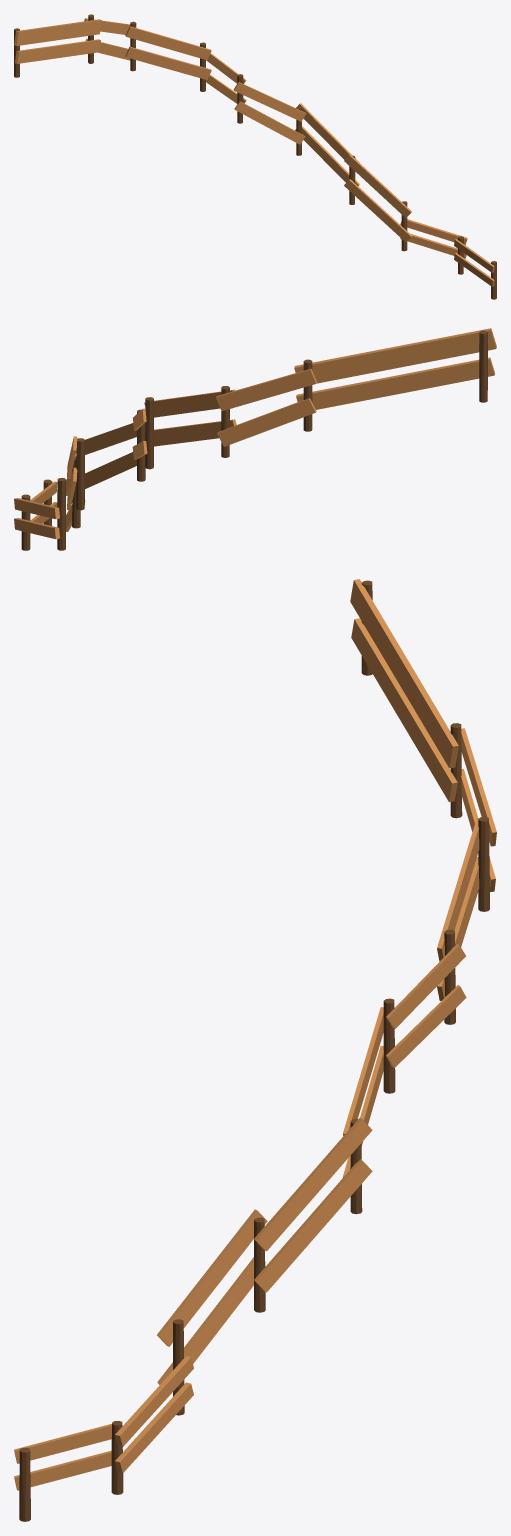
File: Fence.fbx
3 renders of one model, top to bottom at view 1: azimuth 30°, elevation 25°; view 2: azimuth 150°, elevation 25°; view 3: azimuth 270°, elevation 25°, orthographic. The views are drawn at different scales.
Visible parts, largest first — view 1: Cube.016, Cube.017, Cube.013, Cube.012, Cube.005, Cube.004, Cube.008, Cube.009, Cube.007, Cube.006, Cube.002, Cube.003 (+6 smaller); view 2: Cube.016, Cube.017, Cube.014, Cube.015, Cube.013, Cube.012, Cube.009, Cube.008, Cylinder.009, Cylinder.004, Cylinder.006, Cylinder.002 (+8 smaller); view 3: Cube.016, Cube.017, Cube.006, Cube.007, Cube.004, Cube.005, Cube.002, Cube.003, Cube.010, Cube.011, Cube.012, Cube (+5 smaller).
Boxes of the visible parts, left/top/right/bottom form: Cube.016: left=14, top=19, right=101, bottom=45; Cube.017: left=15, top=39, right=100, bottom=63; Cube.013: left=125, top=46, right=211, bottom=79; Cube.012: left=125, top=26, right=211, bottom=60; Cube.005: left=344, top=179, right=411, bottom=242; Cube.004: left=344, top=154, right=411, bottom=217; Cube.008: left=233, top=82, right=306, bottom=121; Cube.009: left=234, top=101, right=305, bottom=144; Cube.007: left=295, top=126, right=359, bottom=186; Cube.006: left=297, top=103, right=359, bottom=162; Cube.002: left=400, top=219, right=467, bottom=244; Cube.003: left=400, top=233, right=466, bottom=258; Cube.016: left=294, top=328, right=496, bottom=383; Cube.017: left=296, top=357, right=494, bottom=409; Cube.014: left=216, top=368, right=317, bottom=411; Cube.015: left=217, top=398, right=316, bottom=446; Cube.013: left=144, top=419, right=236, bottom=446; Cube.012: left=144, top=389, right=235, bottom=417; Cube.009: left=85, top=452, right=136, bottom=488; Cube.008: left=85, top=423, right=154, bottom=454; Cylinder.009: left=479, top=330, right=487, bottom=402; Cylinder.004: left=76, top=438, right=84, bottom=510; Cylinder.006: left=145, top=397, right=153, bottom=469; Cylinder.002: left=57, top=478, right=65, bottom=550; Cube.016: left=350, top=579, right=458, bottom=768; Cube.017: left=351, top=618, right=457, bottom=801; Cube.006: left=254, top=1118, right=372, bottom=1251; Cube.007: left=254, top=1159, right=372, bottom=1292; Cube.004: left=157, top=1209, right=267, bottom=1346; Cube.005: left=157, top=1257, right=253, bottom=1384; Cube.002: left=115, top=1356, right=193, bottom=1446; Cube.003: left=115, top=1382, right=193, bottom=1473; Cube.010: left=386, top=944, right=465, bottom=1028; Cube.011: left=386, top=985, right=466, bottom=1067; Cube.012: left=437, top=818, right=479, bottom=961; Cube: left=14, top=1424, right=111, bottom=1463.
Bounding box in the file's own units: 1291 × 930 × 709.
